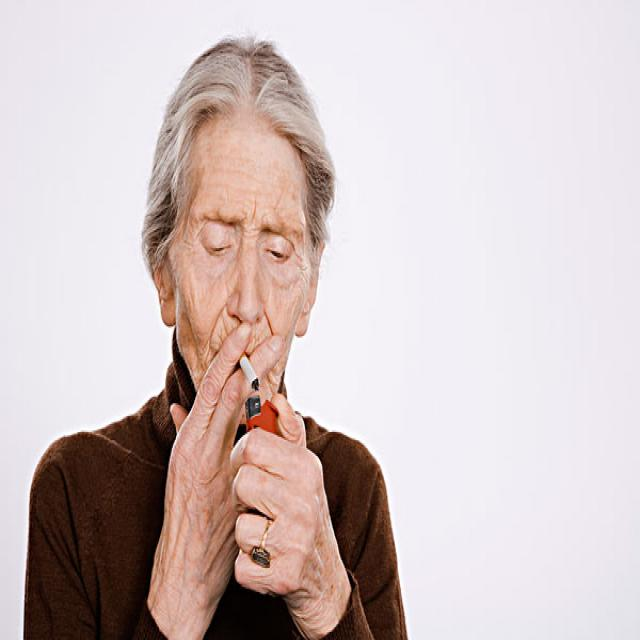smoking: (230, 347, 261, 392)
